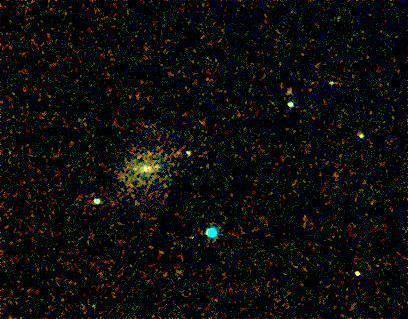star: (273, 77, 303, 107)
